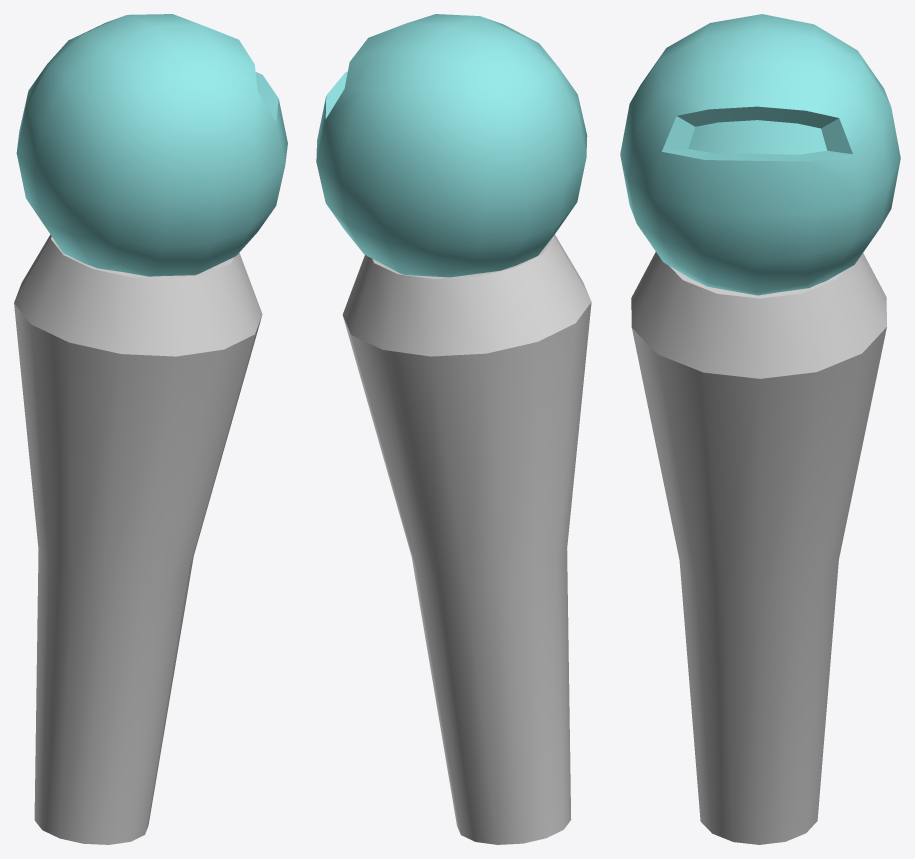
File: L_ARM.fbx
The picture shows the model from 3 angles, left to right: view 1: azimuth 30°, elevation 25°; view 2: azimuth 150°, elevation 25°; view 3: azimuth 270°, elevation 25°; orthographic projection. The views are drawn at different scales.
Visible parts, largest first — view 1: pCylinder2, pCube4; view 2: pCylinder2, pCube4; view 3: pCylinder2, pCube4.
Boxes of the visible parts, left/top/right/bottom form: pCylinder2: left=14, top=234, right=262, bottom=844; pCube4: left=16, top=14, right=287, bottom=276; pCylinder2: left=342, top=234, right=591, bottom=844; pCube4: left=316, top=14, right=587, bottom=277; pCylinder2: left=631, top=252, right=886, bottom=844; pCube4: left=620, top=14, right=900, bottom=295.
Size of the model in its own units: 0.5186 by 1.63 by 0.5048.
